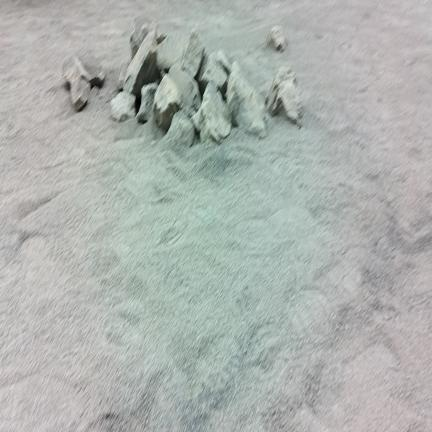Rock: (227, 62, 266, 137), (192, 82, 231, 143), (124, 31, 159, 97), (266, 67, 301, 123), (169, 65, 201, 116), (154, 74, 181, 132), (130, 17, 165, 58), (198, 53, 228, 95), (165, 110, 195, 152), (157, 33, 187, 70), (181, 30, 204, 78), (278, 81, 301, 124), (63, 56, 90, 88), (137, 83, 157, 122), (70, 75, 91, 111), (111, 92, 135, 121), (267, 26, 285, 50), (217, 50, 231, 74), (89, 68, 105, 87), (117, 66, 127, 91)
